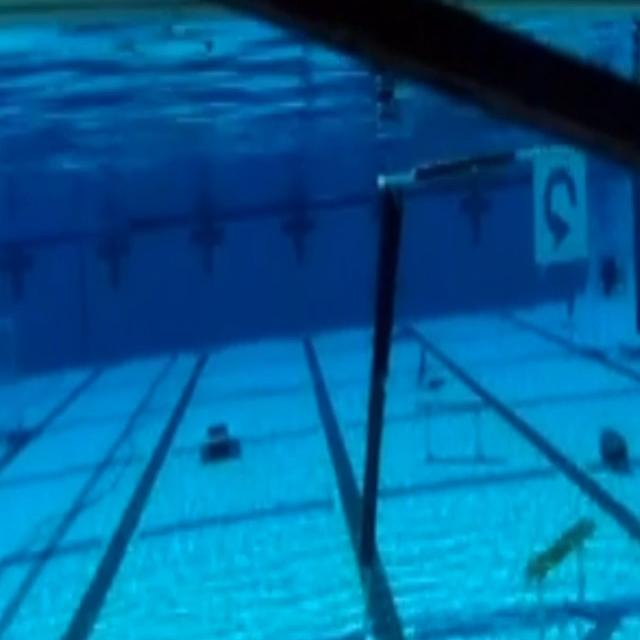Gate: (340, 143, 640, 582)
